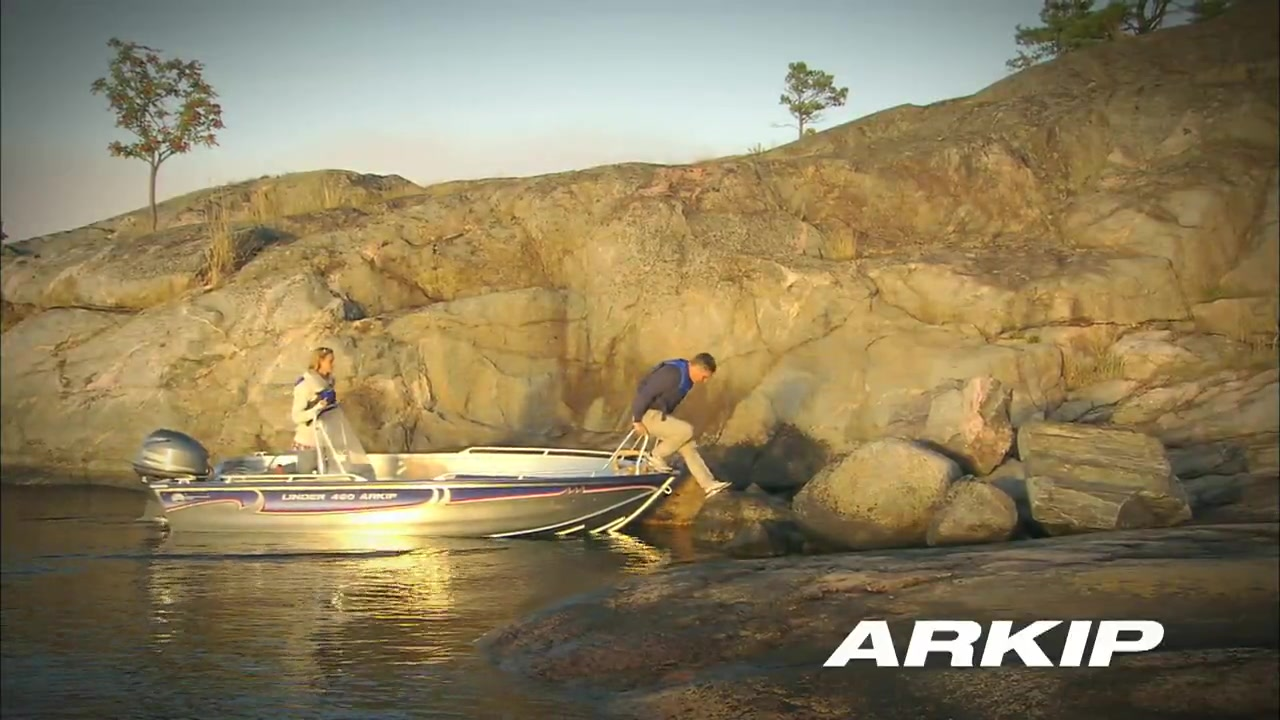boat: (129, 400, 684, 549)
